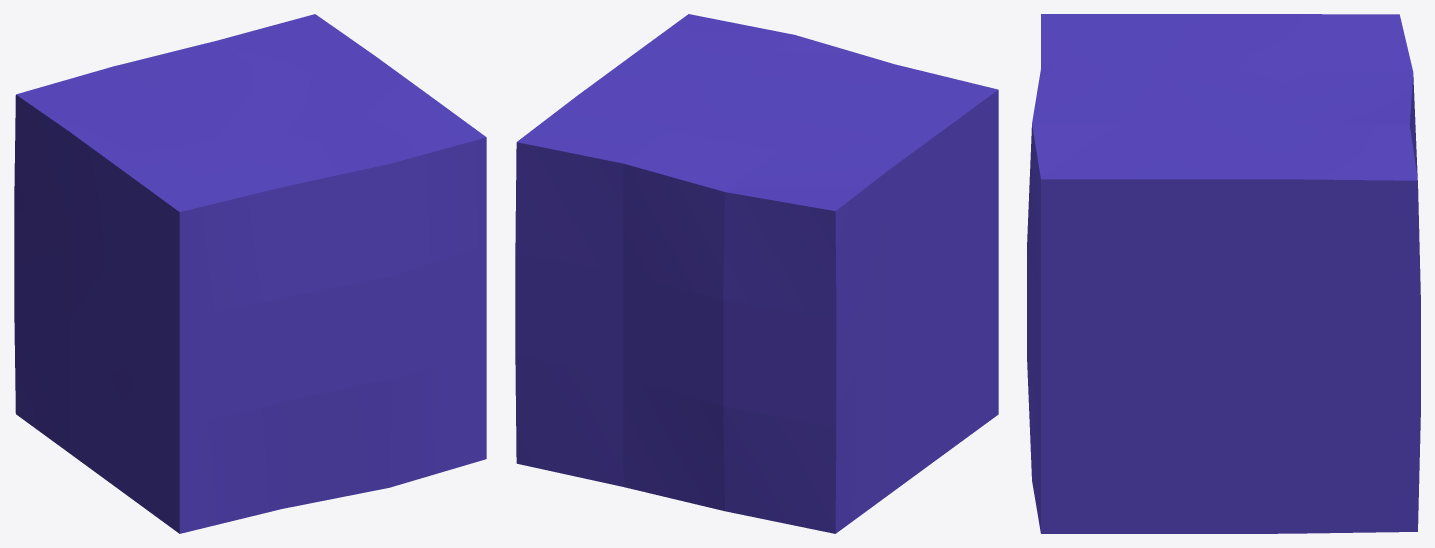
File: Stone2.fbx
3 renders of one model, left to right at view 1: azimuth 30°, elevation 25°; view 2: azimuth 150°, elevation 25°; view 3: azimuth 270°, elevation 25°, orthographic. The views are drawn at different scales.
Parts seen in each view (by area): view 1: Stone2; view 2: Stone2; view 3: Stone2.
Boxes of the visible parts, x1=… form: Stone2: x1=14, y1=14, x2=486, y2=533; Stone2: x1=515, y1=14, x2=998, y2=533; Stone2: x1=1027, y1=14, x2=1420, y2=533.
Size of the model in its own units: 100 by 100 by 100.
